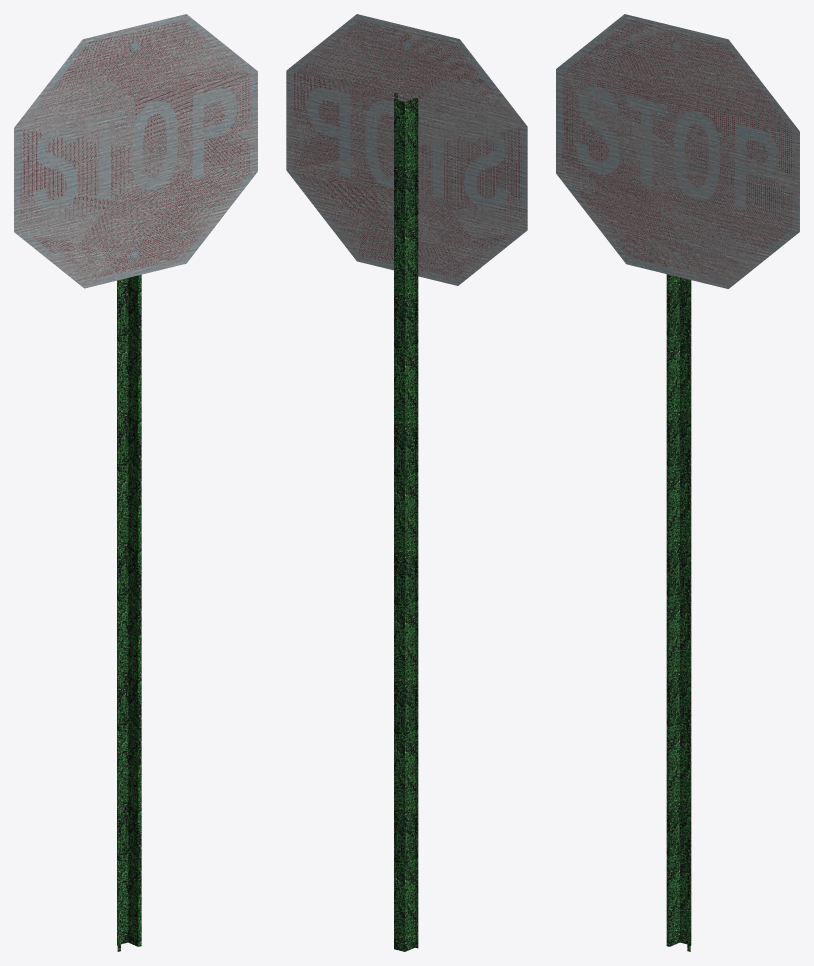
Rendered from roadsign_stop1.fbx.
3 renders of one model, left to right at view 1: azimuth 30°, elevation 25°; view 2: azimuth 150°, elevation 25°; view 3: azimuth 330°, elevation 25°, orthographic.
Parts seen in each view (by area): view 1: stop_sign_1_1, Full_post_sign1; view 2: stop_sign_1_1, Full_post_sign1; view 3: stop_sign_1_1, Full_post_sign1.
Boxes of the visible parts, left/top/right/bottom form: stop_sign_1_1: left=14, top=14, right=257, bottom=288; Full_post_sign1: left=117, top=274, right=141, bottom=951; stop_sign_1_1: left=286, top=14, right=527, bottom=285; Full_post_sign1: left=394, top=93, right=418, bottom=951; stop_sign_1_1: left=556, top=14, right=799, bottom=288; Full_post_sign1: left=666, top=274, right=691, bottom=951.
Bounding box in the file's own units: 35.38 × 128 × 2.62.
